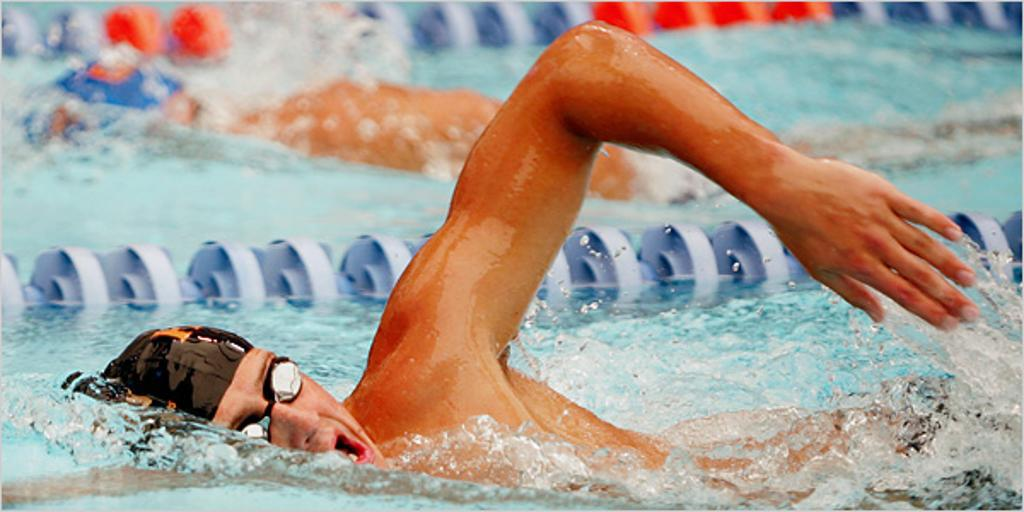face: (181, 347, 391, 497)
